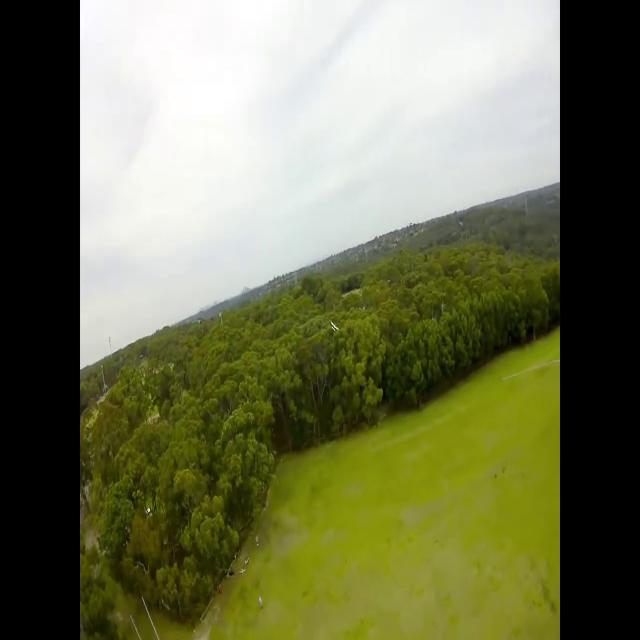iha: (334, 324, 338, 328)
